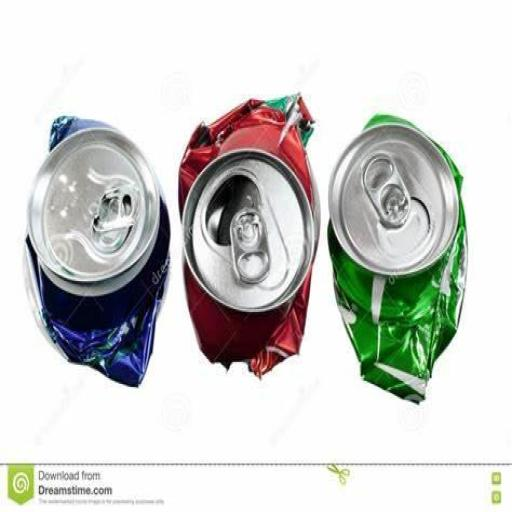can: (176, 91, 321, 381), (22, 113, 172, 390), (327, 112, 468, 406)
pop tab: (362, 150, 413, 229), (229, 206, 274, 285), (92, 187, 141, 235)
